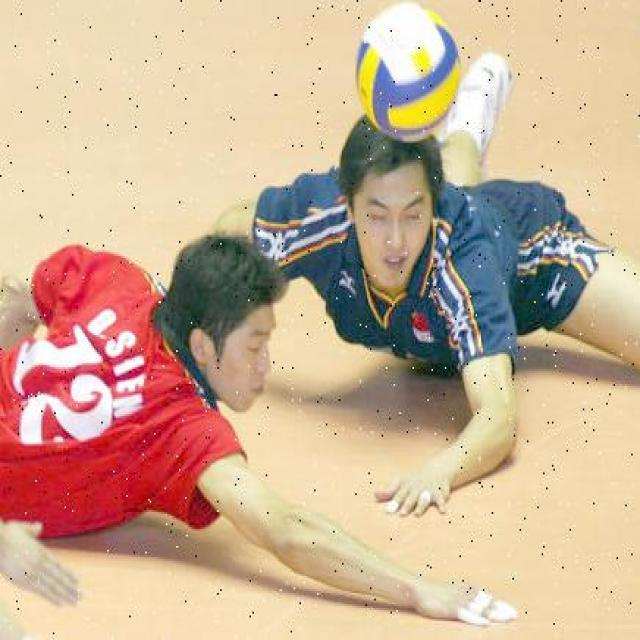fall: (266, 90, 638, 462), (0, 241, 367, 569)
